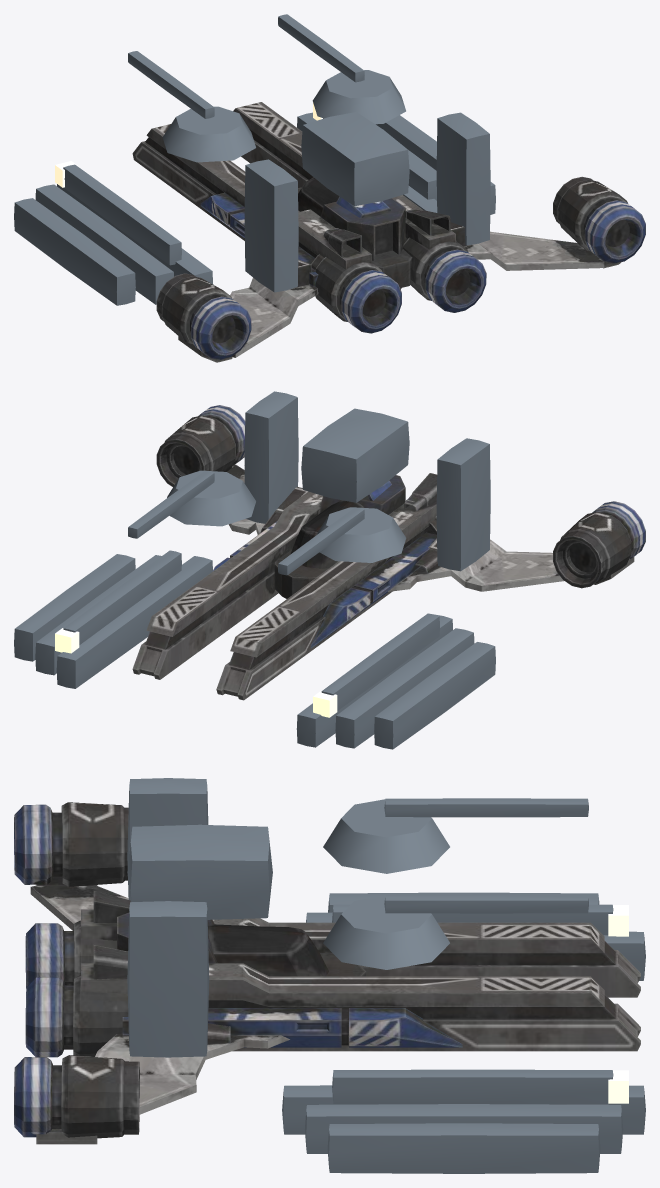
File: world_dreadnought.glb
3 views of the same model, one above another, from view 1: azimuth 30°, elevation 25°; view 2: azimuth 150°, elevation 25°; view 3: azimuth 270°, elevation 25° (orthographic). The views are drawn at different scales.
Visible parts, largest first — view 1: world_dreadnought; view 2: world_dreadnought; view 3: world_dreadnought.
Boxes of the visible parts, left/top/right/bottom form: world_dreadnought: left=14, top=14, right=645, bottom=362; world_dreadnought: left=14, top=391, right=645, bottom=749; world_dreadnought: left=14, top=778, right=645, bottom=1173.
Size of the model in its own units: 1.5 by 0.52 by 1.39.
Materials: 3 (1 with a texture image).
